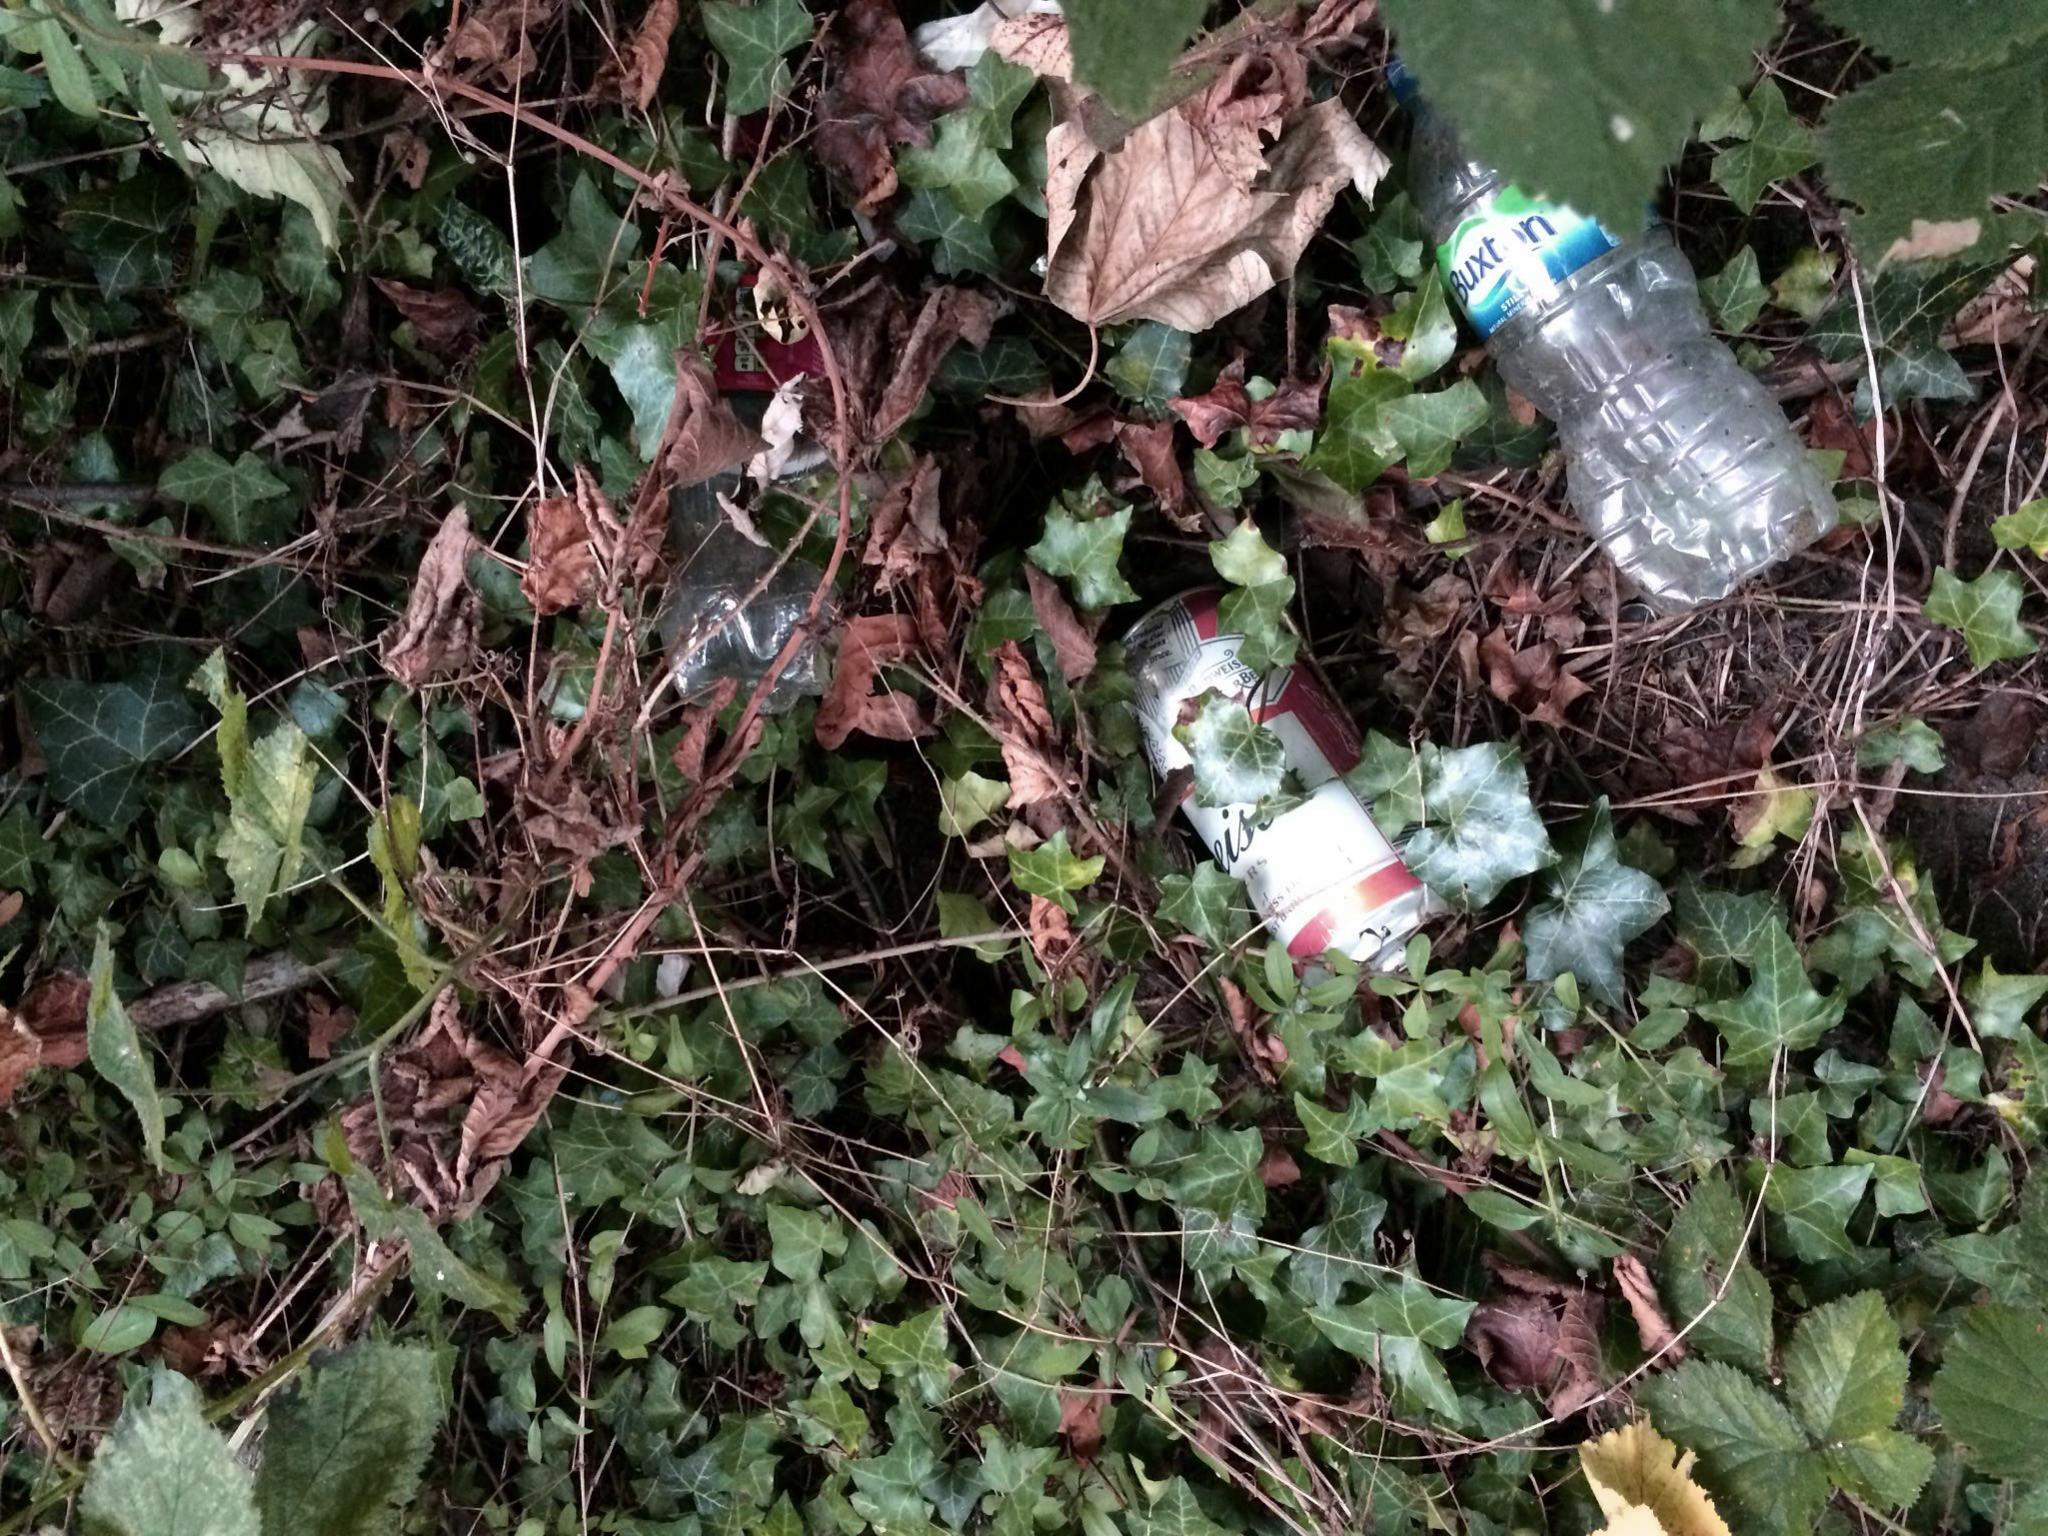Metal: (1074, 539, 1467, 1018)
Plastic: (1353, 0, 1848, 634)
